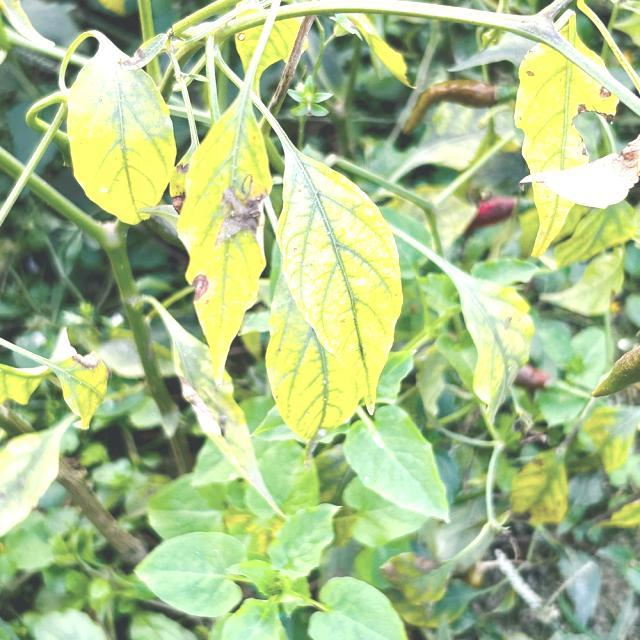Bercak Daun Serkospora: (178, 12, 268, 390), (514, 9, 620, 258)
Virus Kuning: (279, 148, 403, 421), (65, 48, 172, 230)
